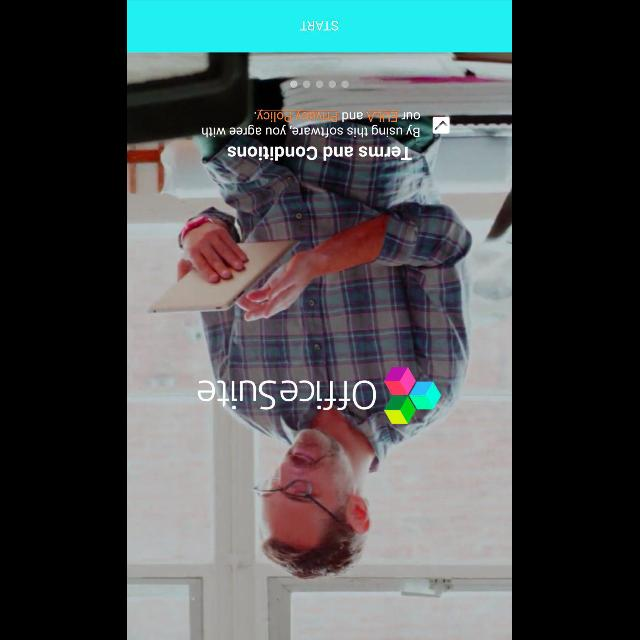backgroundimage: (128, 52, 512, 640)
checkbox: (434, 116, 451, 134)
image: (198, 366, 442, 424)
pageindicator: (290, 80, 350, 88)
text: (202, 109, 420, 138), (228, 146, 412, 162)
textbutton: (128, 0, 512, 52), (258, 110, 340, 122), (367, 110, 399, 122)
